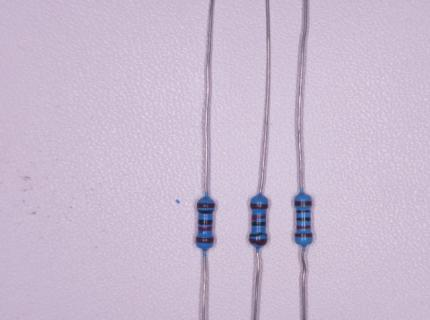Black band: (198, 219, 213, 225), (249, 233, 268, 237), (198, 210, 213, 214), (251, 222, 265, 226), (296, 218, 310, 221), (296, 210, 310, 213)
Brown band: (250, 239, 267, 246), (196, 238, 213, 243), (251, 204, 268, 209), (197, 204, 215, 208), (295, 202, 312, 206), (295, 234, 312, 237)
Red band: (252, 215, 266, 220), (198, 226, 211, 231), (297, 225, 311, 229)
